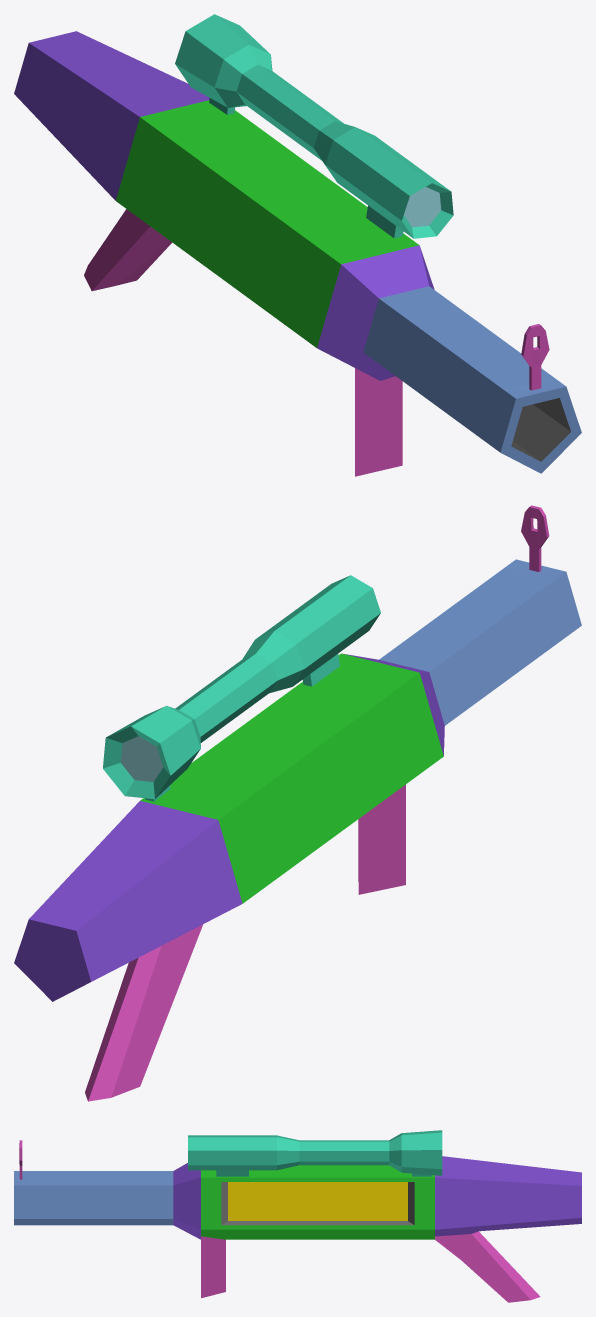
File: gun.fbx
The picture shows the model from 3 angles, top to bottom: view 1: azimuth 30°, elevation 25°; view 2: azimuth 150°, elevation 25°; view 3: azimuth 270°, elevation 25°; orthographic projection. The views are drawn at different scales.
Visible parts, largest first — view 1: Cylinder; view 2: Cylinder; view 3: Cylinder.
Part boxes in pixels (box(x1,y1,x2,y2)): Cylinder: box(14, 14, 581, 476); Cylinder: box(14, 505, 581, 1101); Cylinder: box(14, 1130, 581, 1302).
Bounding box in the file's own units: 126 × 274 × 801.
